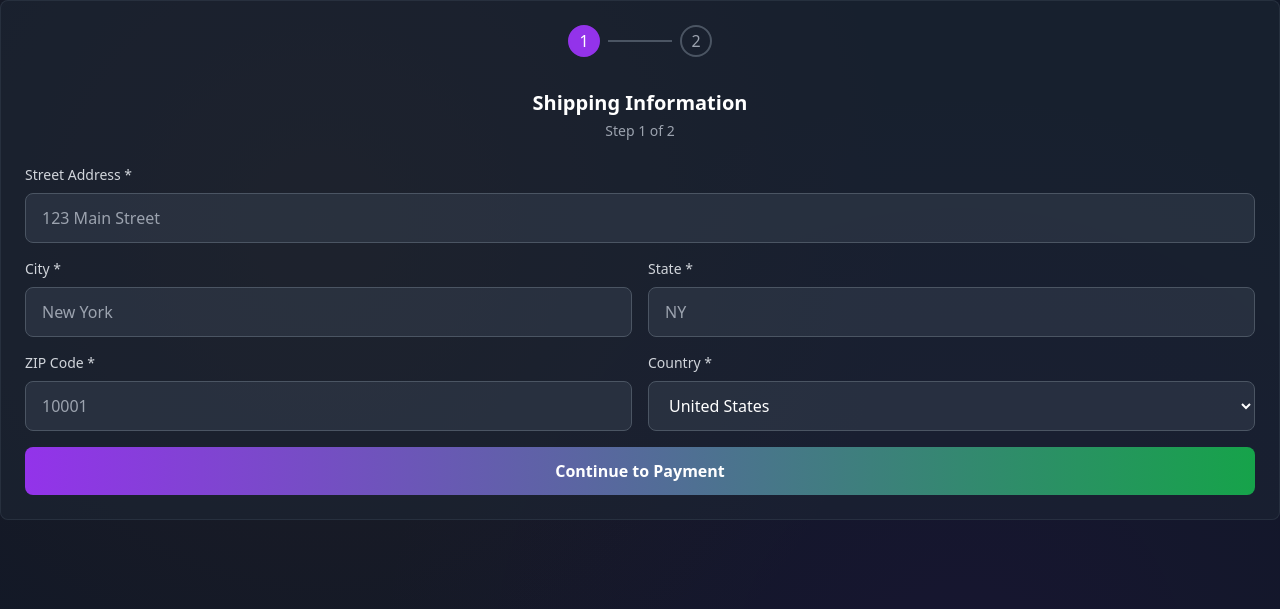
CheckoutForm › validates required shipping fields
Try to proceed without filling required fields
Click the button "Continue to Payment" at (640, 471), box [25,447,1255,495]
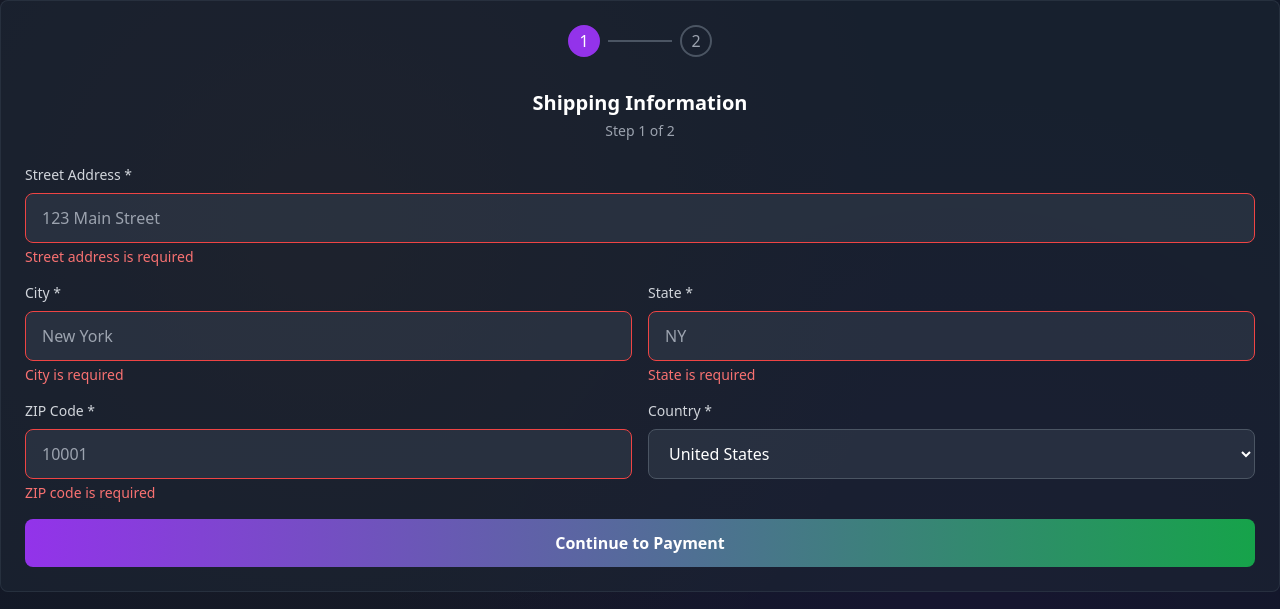
Expected: the text "Street address is required" is shown, [25,247,194,266]
Expected: the text "City is required" is shown, [25,365,124,384]
Expected: the text "State is required" is shown, [648,365,755,384]
